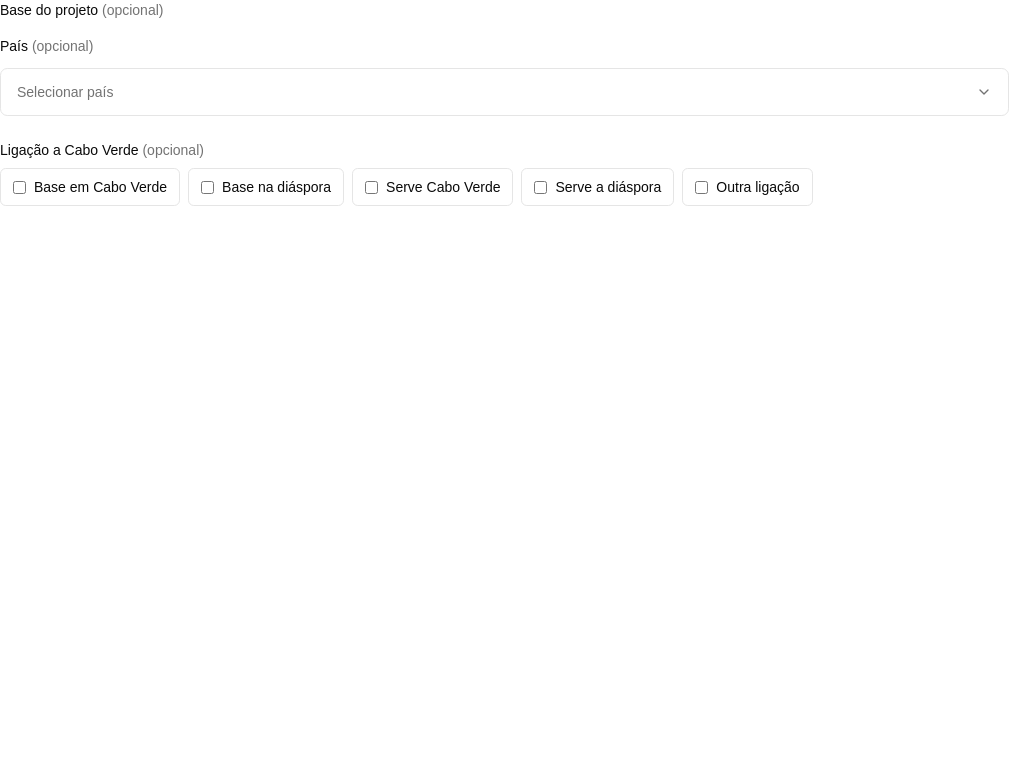
submission location choices › keeps location optional and shows flags in the country list and selected country
Later steps or results of the test are not shown.
Click the dropdown named "País da base do projeto" at {"x": 65, "y": 92}, box left=0, top=68, right=1009, bottom=116
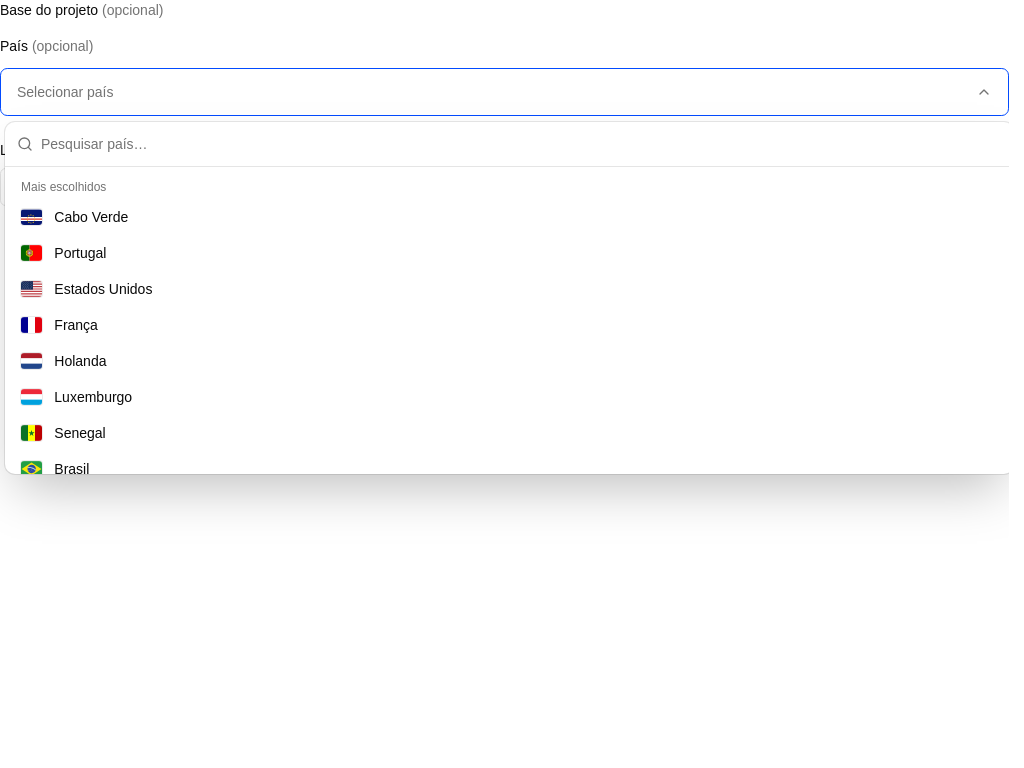
Check: the element with class "fi-pt" is shown, box left=21, top=245, right=42, bottom=261
Click the option "Portugal" at {"x": 64, "y": 253}, box left=21, top=245, right=106, bottom=261
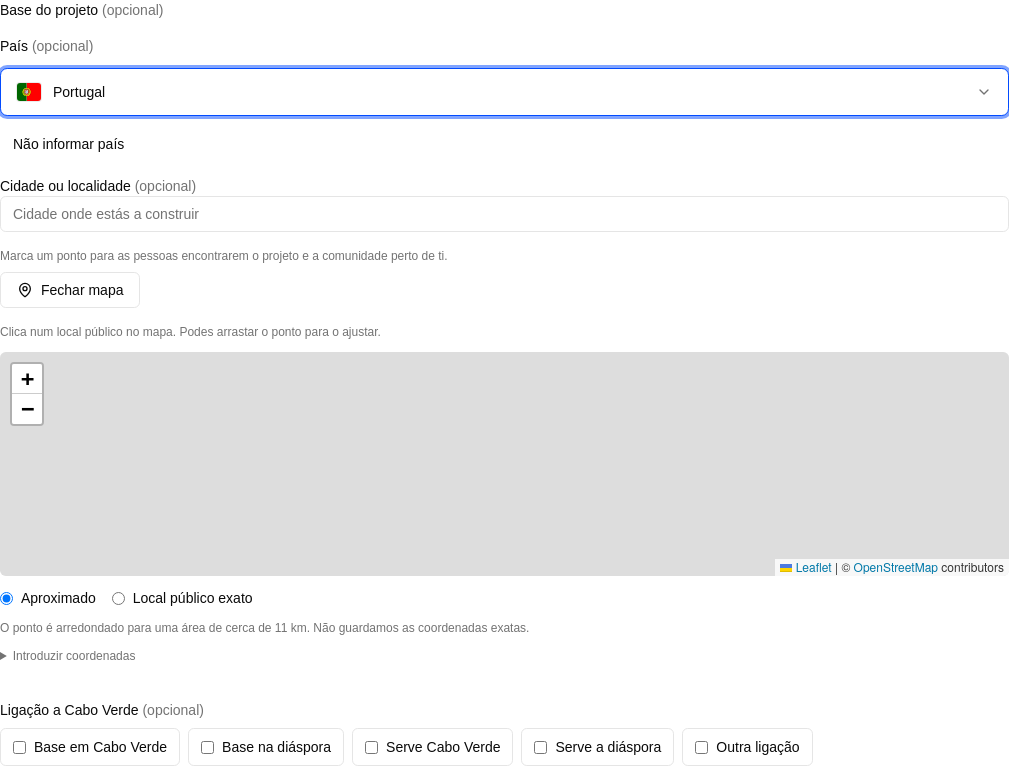
Check: the element with class "fi-pt" is shown, box left=17, top=83, right=41, bottom=101
